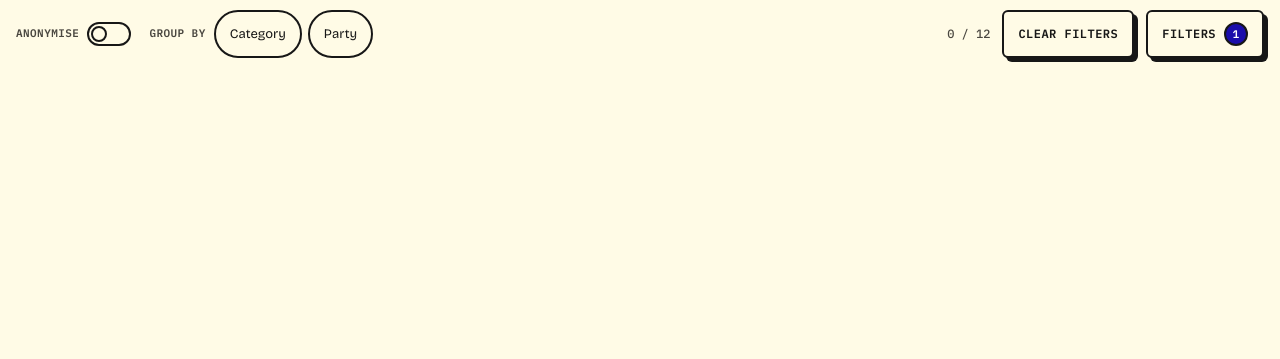
Test: FilterBar › fills a selected party pill with the solid party colour
Click the button "Filters 1": [1205, 34] box [1146, 10, 1264, 58]
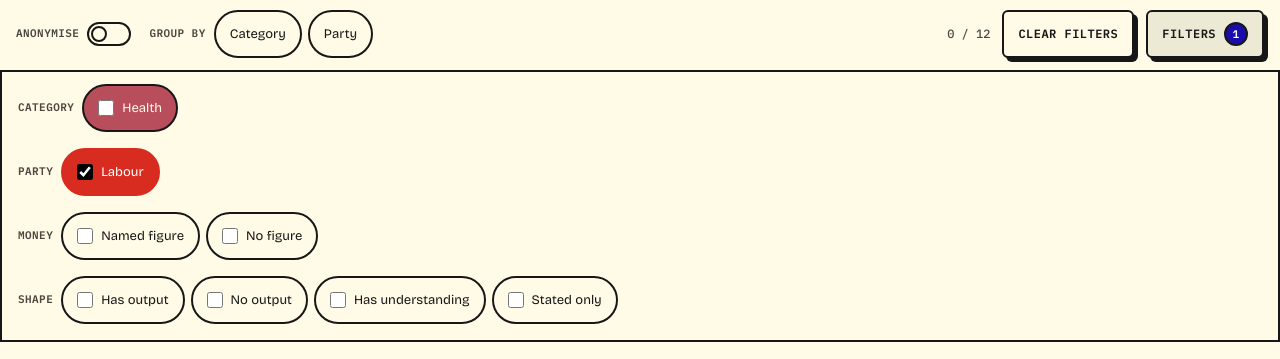
expect the checkbox labelled "Labour" is checked: met, box [77, 164, 93, 180]
